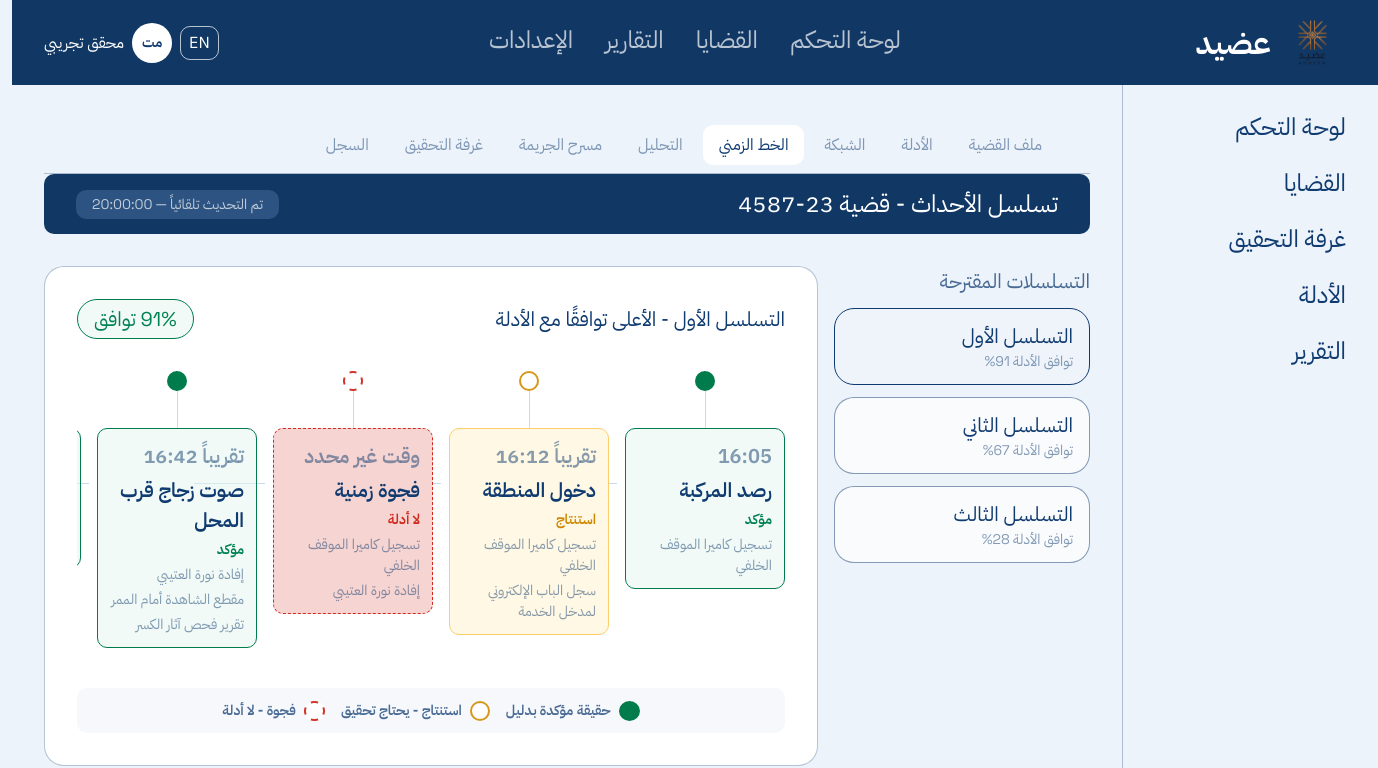
Test: timeline › swaps the rendered steps when an alternative sequence is selected
Expected: the heading "تسلسل الأحداث - قضية 23-4587" is shown, x1=738 y1=186 x2=1058 y2=222
Expected: the text "رصد المركبة" is shown, x1=679 y1=475 x2=772 y2=505
Click the button "التسلسل الثاني توافق الأدلة 67%": (962, 436) x1=834 y1=397 x2=1090 y2=474
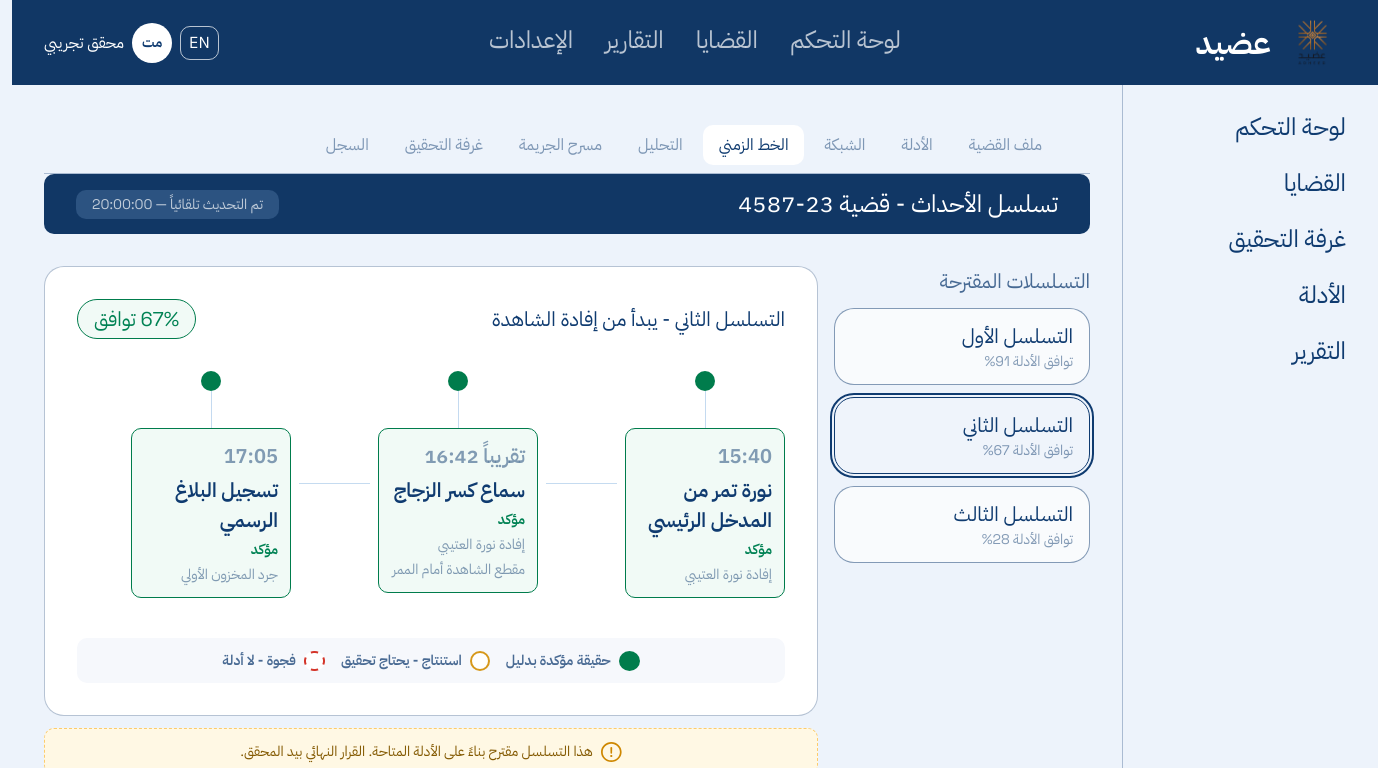
Now the text "نورة تمر من المدخل الرئيسي" is shown, box x1=638 y1=475 x2=772 y2=535
Now the button "رصد المركبة" is gone
Now the heading "التسلسل الثاني - يبدأ من إفادة الشاهدة" is shown, box x1=492 y1=304 x2=785 y2=334
